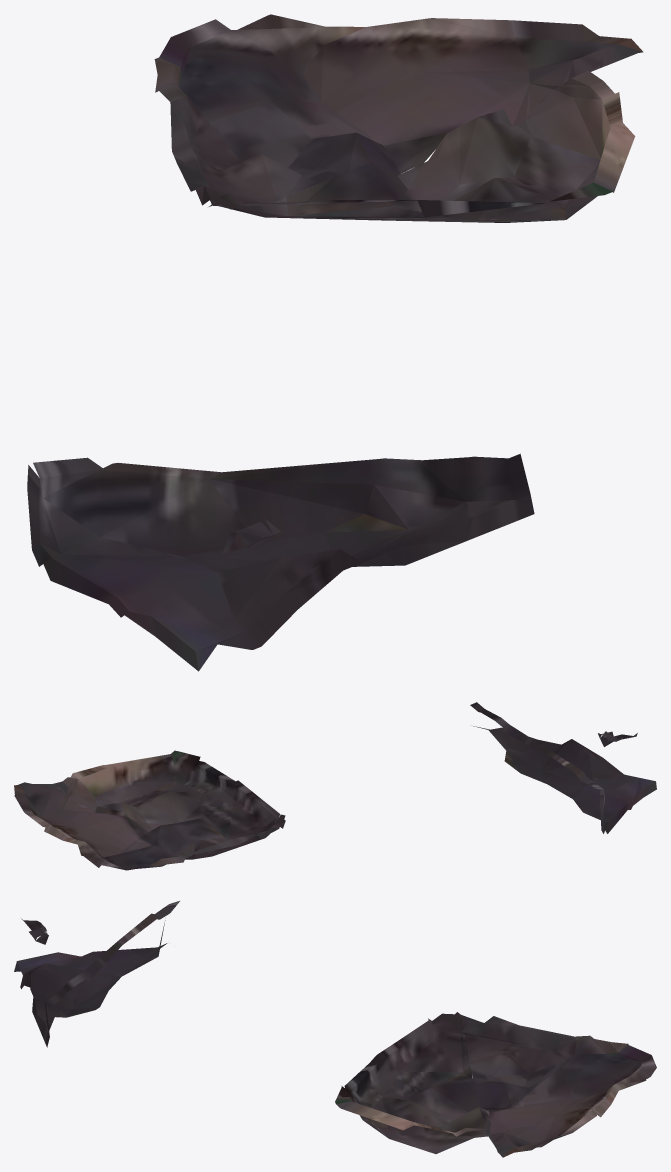
3 views of the same model, one above another, from view 1: azimuth 30°, elevation 25°; view 2: azimuth 150°, elevation 25°; view 3: azimuth 270°, elevation 25° (orthographic). The views are drawn at different scales.
Visible parts, largest first — view 1: Mesh_0; view 2: Mesh_0; view 3: Mesh_0.
Boxes of the visible parts, <box> form: Mesh_0: <box>27,14,643,671</box>; Mesh_0: <box>14,702,656,870</box>; Mesh_0: <box>14,901,656,1157</box>.
Bounding box in the file's own units: 27.82 × 3.46 × 29.67.
Materials: 1 (1 with a texture image).
